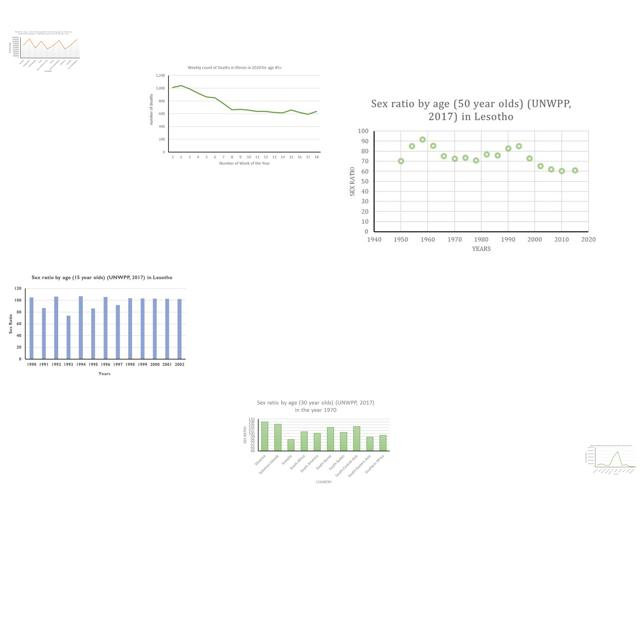Graph: (343, 95, 599, 257), (6, 270, 191, 378), (145, 62, 325, 170), (240, 397, 392, 486), (7, 29, 81, 73), (585, 444, 637, 475)
